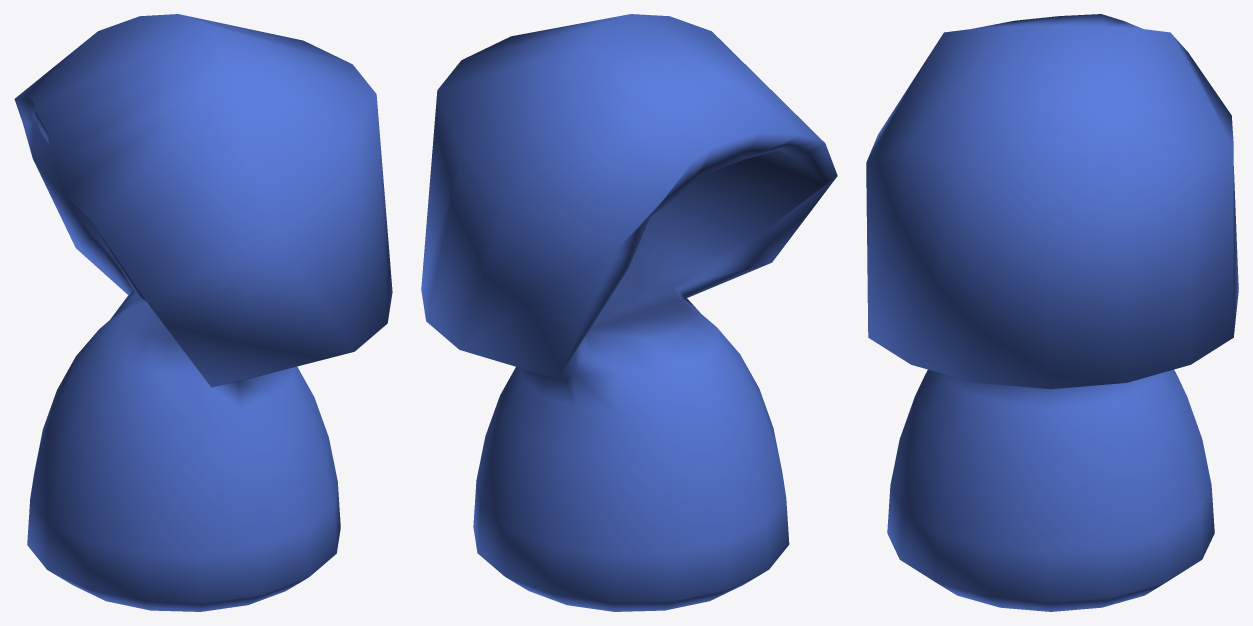
File: Justin_Body_Undercover.fbx
3 renders of one model, left to right at view 1: azimuth 30°, elevation 25°; view 2: azimuth 150°, elevation 25°; view 3: azimuth 270°, elevation 25°, orthographic. The views are drawn at different scales.
Parts seen in each view (by area): view 1: body_01.003; view 2: body_01.003; view 3: body_01.003.
Boxes of the visible parts, left/top/right/bottom form: body_01.003: left=14, top=14, right=392, bottom=611; body_01.003: left=421, top=14, right=837, bottom=611; body_01.003: left=866, top=14, right=1238, bottom=611.
Bounding box in the file's own units: 105 × 155 × 96.28.
